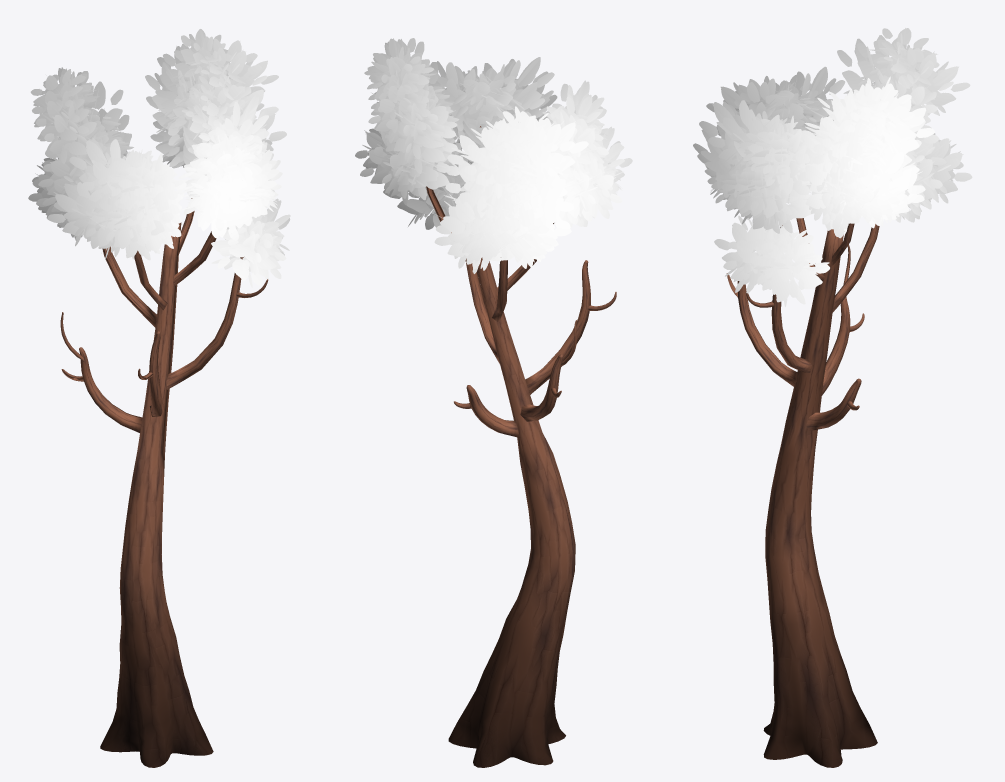
Rendered from CommonTree_4.gltf.
3 renders of one model, left to right at view 1: azimuth 30°, elevation 25°; view 2: azimuth 150°, elevation 25°; view 3: azimuth 270°, elevation 25°, orthographic. The views are drawn at different scales.
Visible parts, largest first — view 1: CommonTree_4; view 2: CommonTree_4; view 3: CommonTree_4.
Boxes of the visible parts, left/top/right/bottom form: CommonTree_4: left=28, top=29, right=290, bottom=767; CommonTree_4: left=355, top=38, right=632, bottom=767; CommonTree_4: left=693, top=28, right=972, bottom=767.
Bounding box in the file's own units: 3.83 × 9.44 × 3.76.
Materials: 2 (2 with a texture image).
